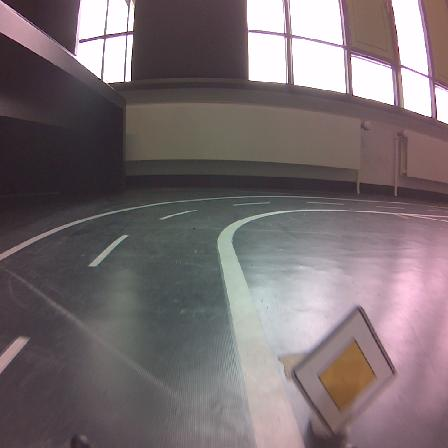PRIORITY_ROAD: (292, 307, 395, 434)
